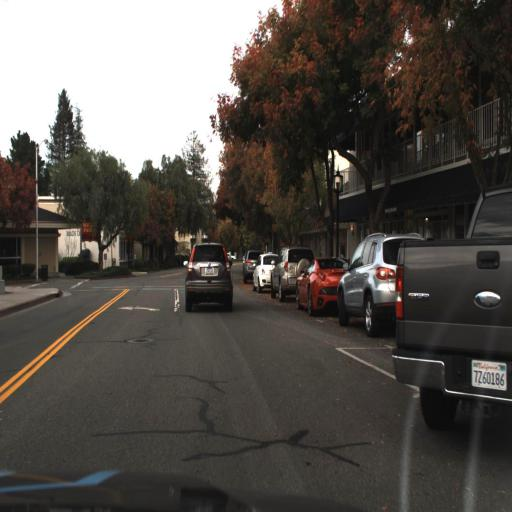car: (392, 180, 512, 432), (332, 228, 430, 344), (180, 237, 236, 320), (295, 254, 351, 316), (268, 244, 317, 299), (248, 248, 282, 293)
